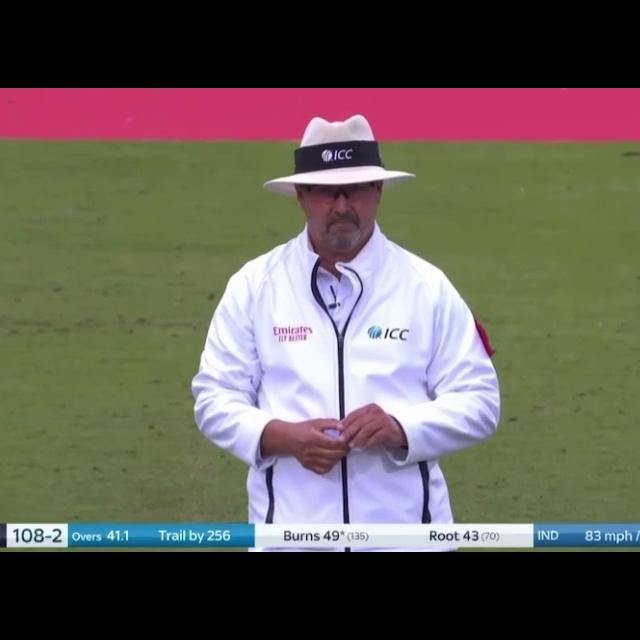umpire: (194, 91, 499, 549)
